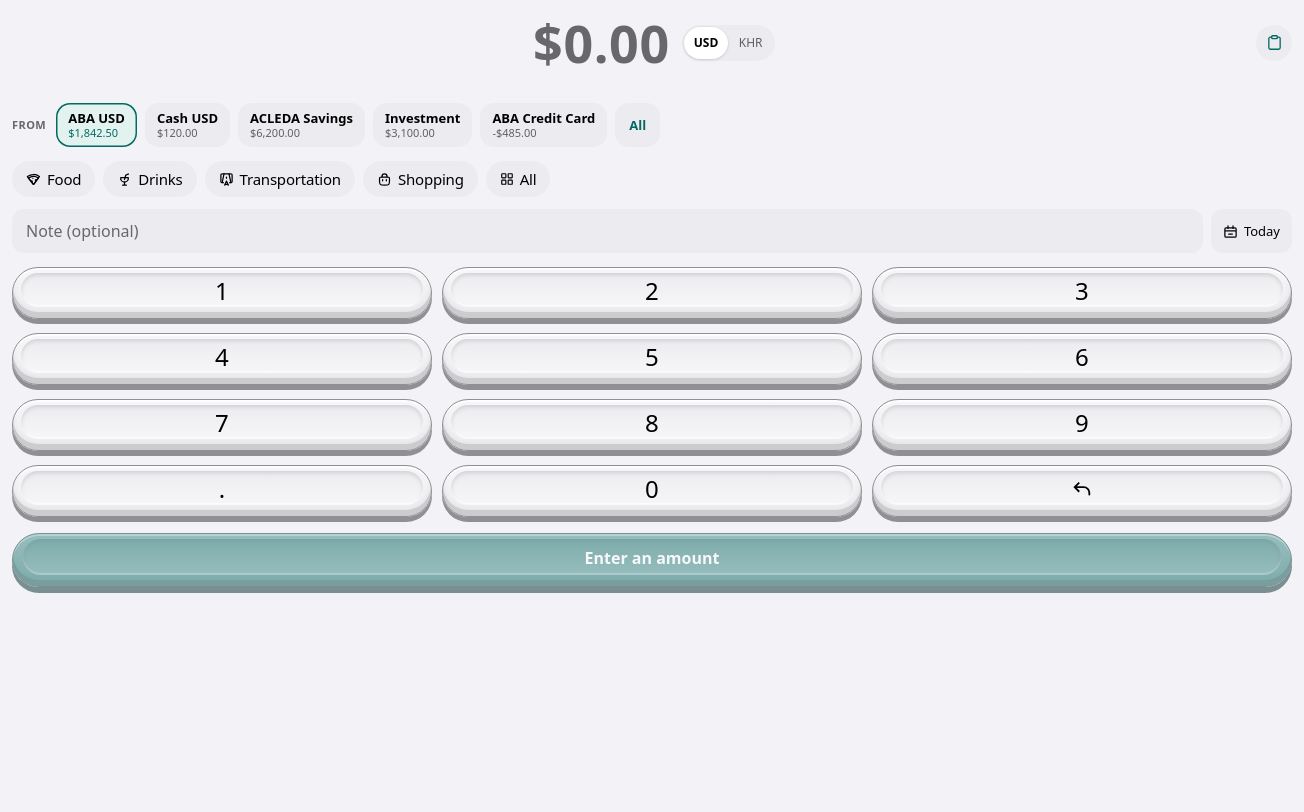
Scenario: transaction save feedback › releases the saving state if the request throws
The image size is (1304, 812).
Step 1. Click the button "5" → {"x": 652, "y": 359}, box [442, 333, 862, 385]
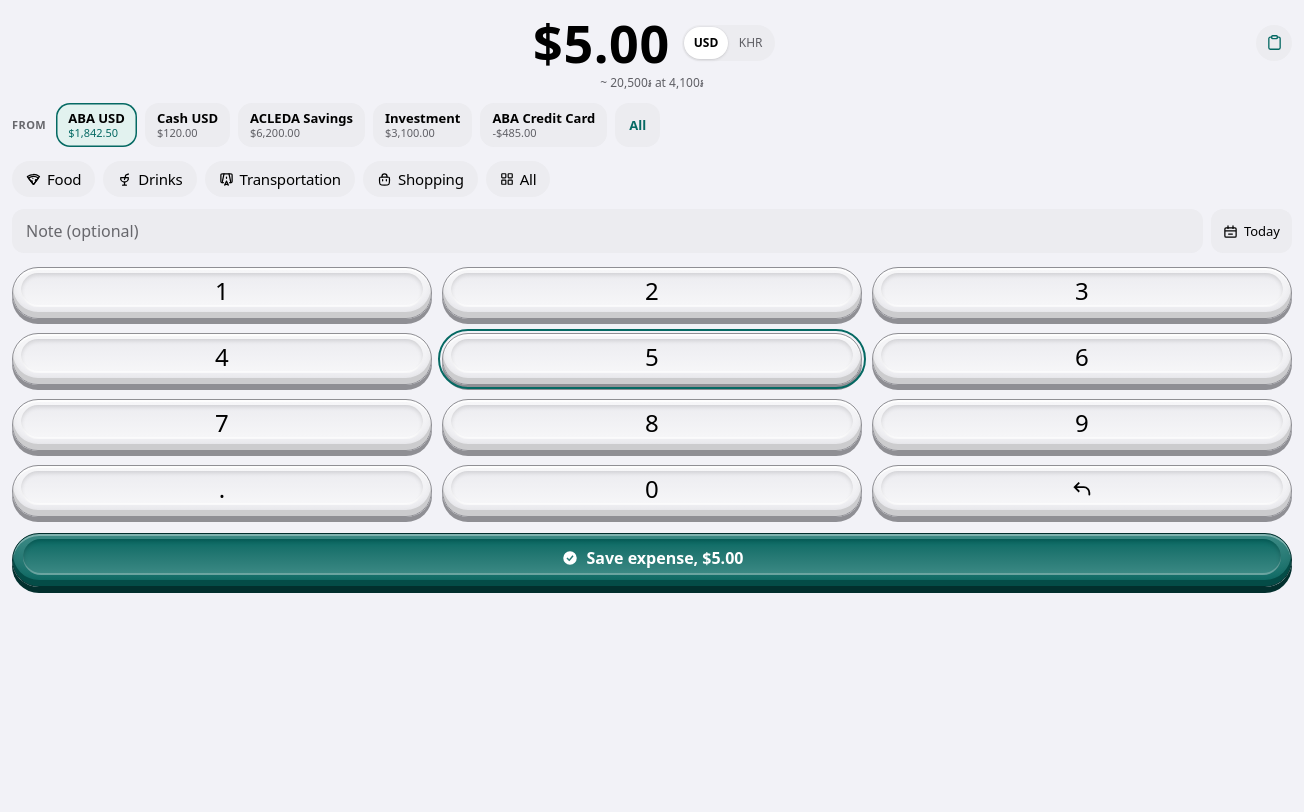
Step 2. Click the button "Save expense, $5.00" → {"x": 652, "y": 560}, box [12, 533, 1292, 587]
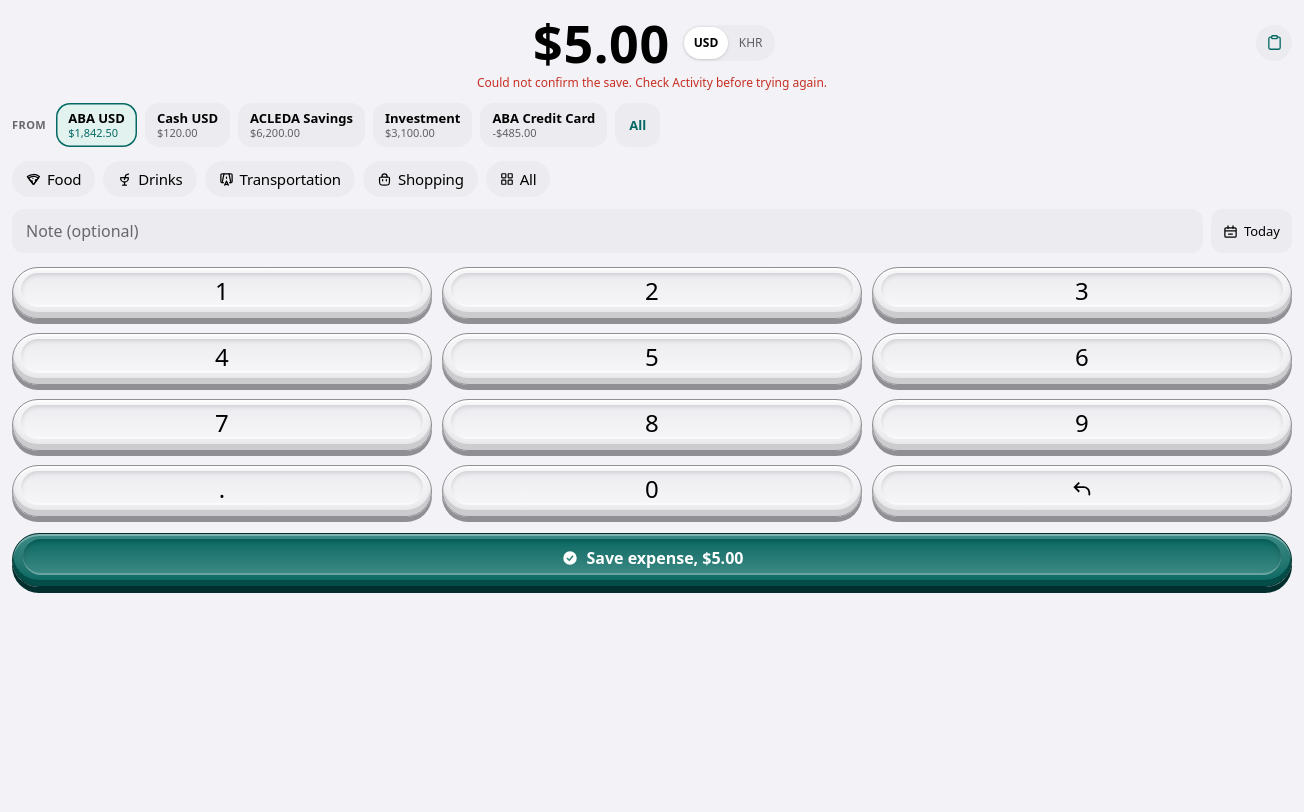
Now the button "Save expense, $5.00" is enabled, box [12, 533, 1292, 587]
Now the message shows "Check Activity", box [477, 74, 827, 91]
